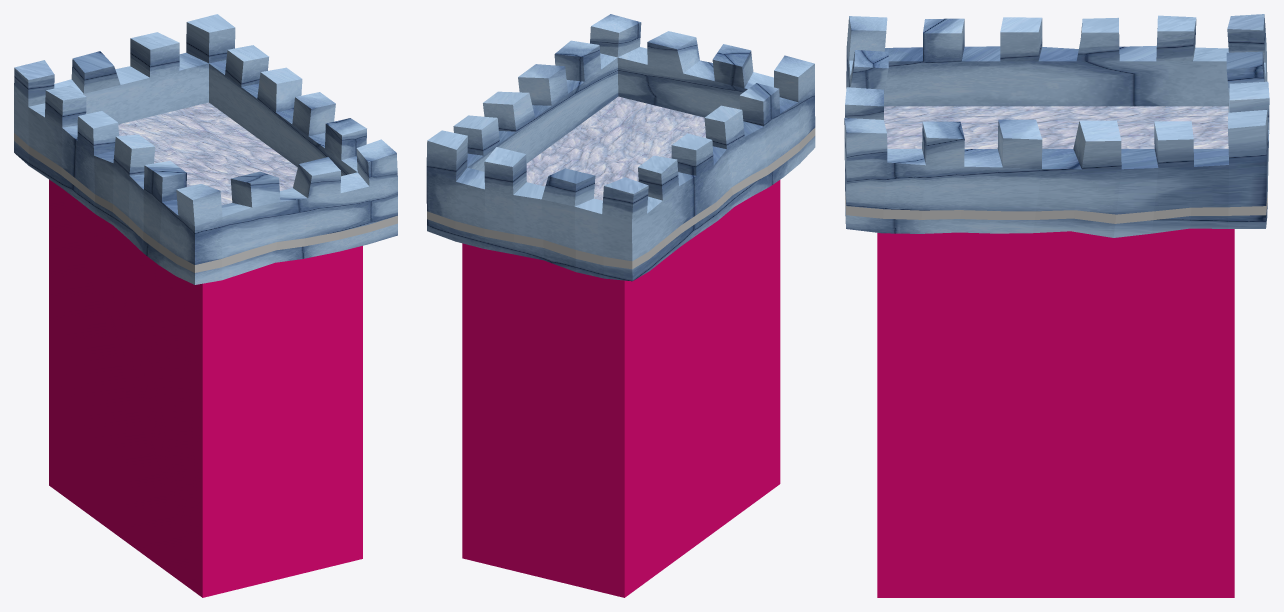
File: niftyTowerSmall.fbx
3 views of the same model, side by side, from view 1: azimuth 30°, elevation 25°; view 2: azimuth 150°, elevation 25°; view 3: azimuth 270°, elevation 25° (orthographic). The views are drawn at different scales.
Visible parts, largest first — view 1: Cube; view 2: Cube; view 3: Cube.
Boxes of the visible parts, bbox=[...] form: Cube: bbox=[14, 14, 397, 597]; Cube: bbox=[426, 14, 815, 597]; Cube: bbox=[844, 14, 1269, 597].
Bounding box in the file's own units: 2.07 × 3.87 × 3.08.
